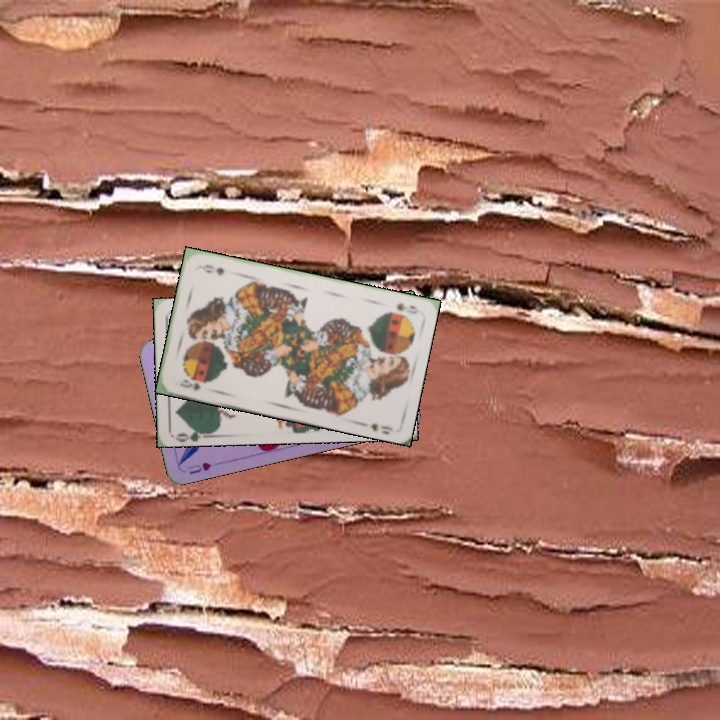GO: (172, 422, 213, 442)
HU: (184, 458, 214, 477)
SO: (175, 375, 209, 393), (392, 298, 422, 317)
